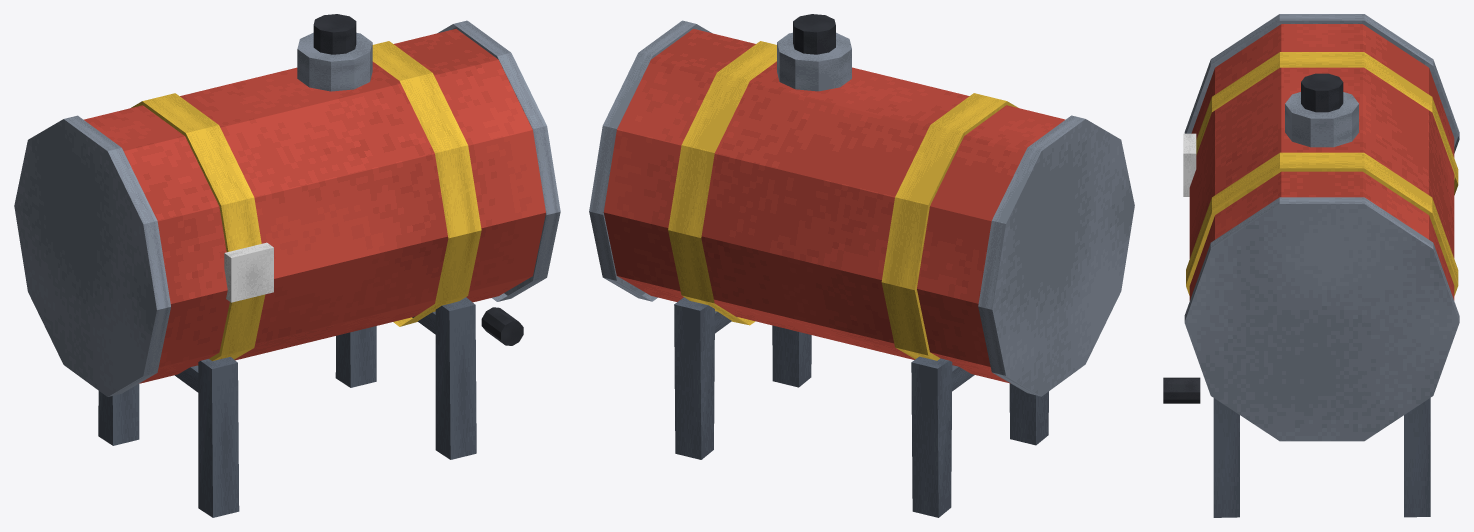
File: prop_fuel_tank.glb
3 views of the same model, side by side, from view 1: azimuth 30°, elevation 25°; view 2: azimuth 150°, elevation 25°; view 3: azimuth 270°, elevation 25° (orthographic). The views are drawn at different scales.
Parts seen in each view (by area): view 1: prop_fuel_tank; view 2: prop_fuel_tank; view 3: prop_fuel_tank.
Boxes of the visible parts, left/top/right/bottom form: prop_fuel_tank: left=14, top=14, right=560, bottom=517; prop_fuel_tank: left=589, top=14, right=1134, bottom=517; prop_fuel_tank: left=1163, top=14, right=1459, bottom=517.
Size of the model in its own units: 1.7 by 1.65 by 1.12.
1 material, 1 textured.
